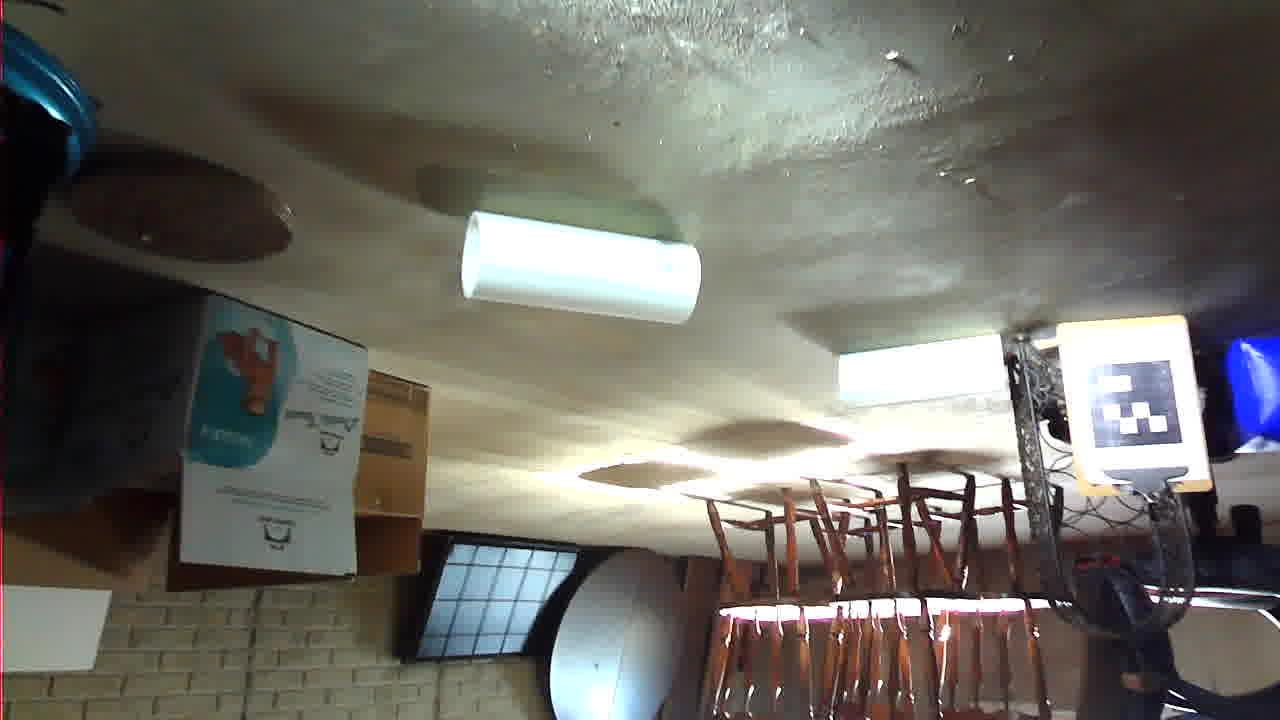coral: (578, 396, 817, 509), (273, 317, 441, 372)
